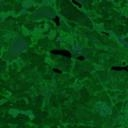alloviz: (48, 47, 72, 59), (110, 64, 128, 73), (51, 15, 62, 27), (50, 66, 63, 75), (70, 1, 83, 9), (76, 54, 86, 62)
